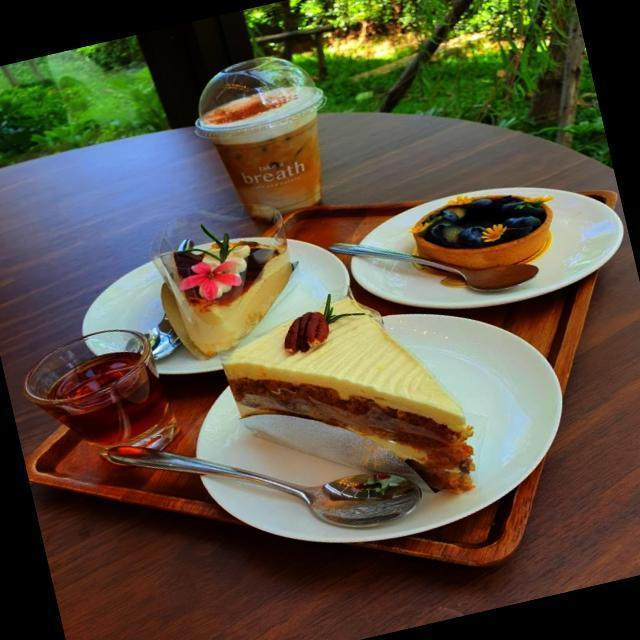cup: (187, 49, 337, 222)
